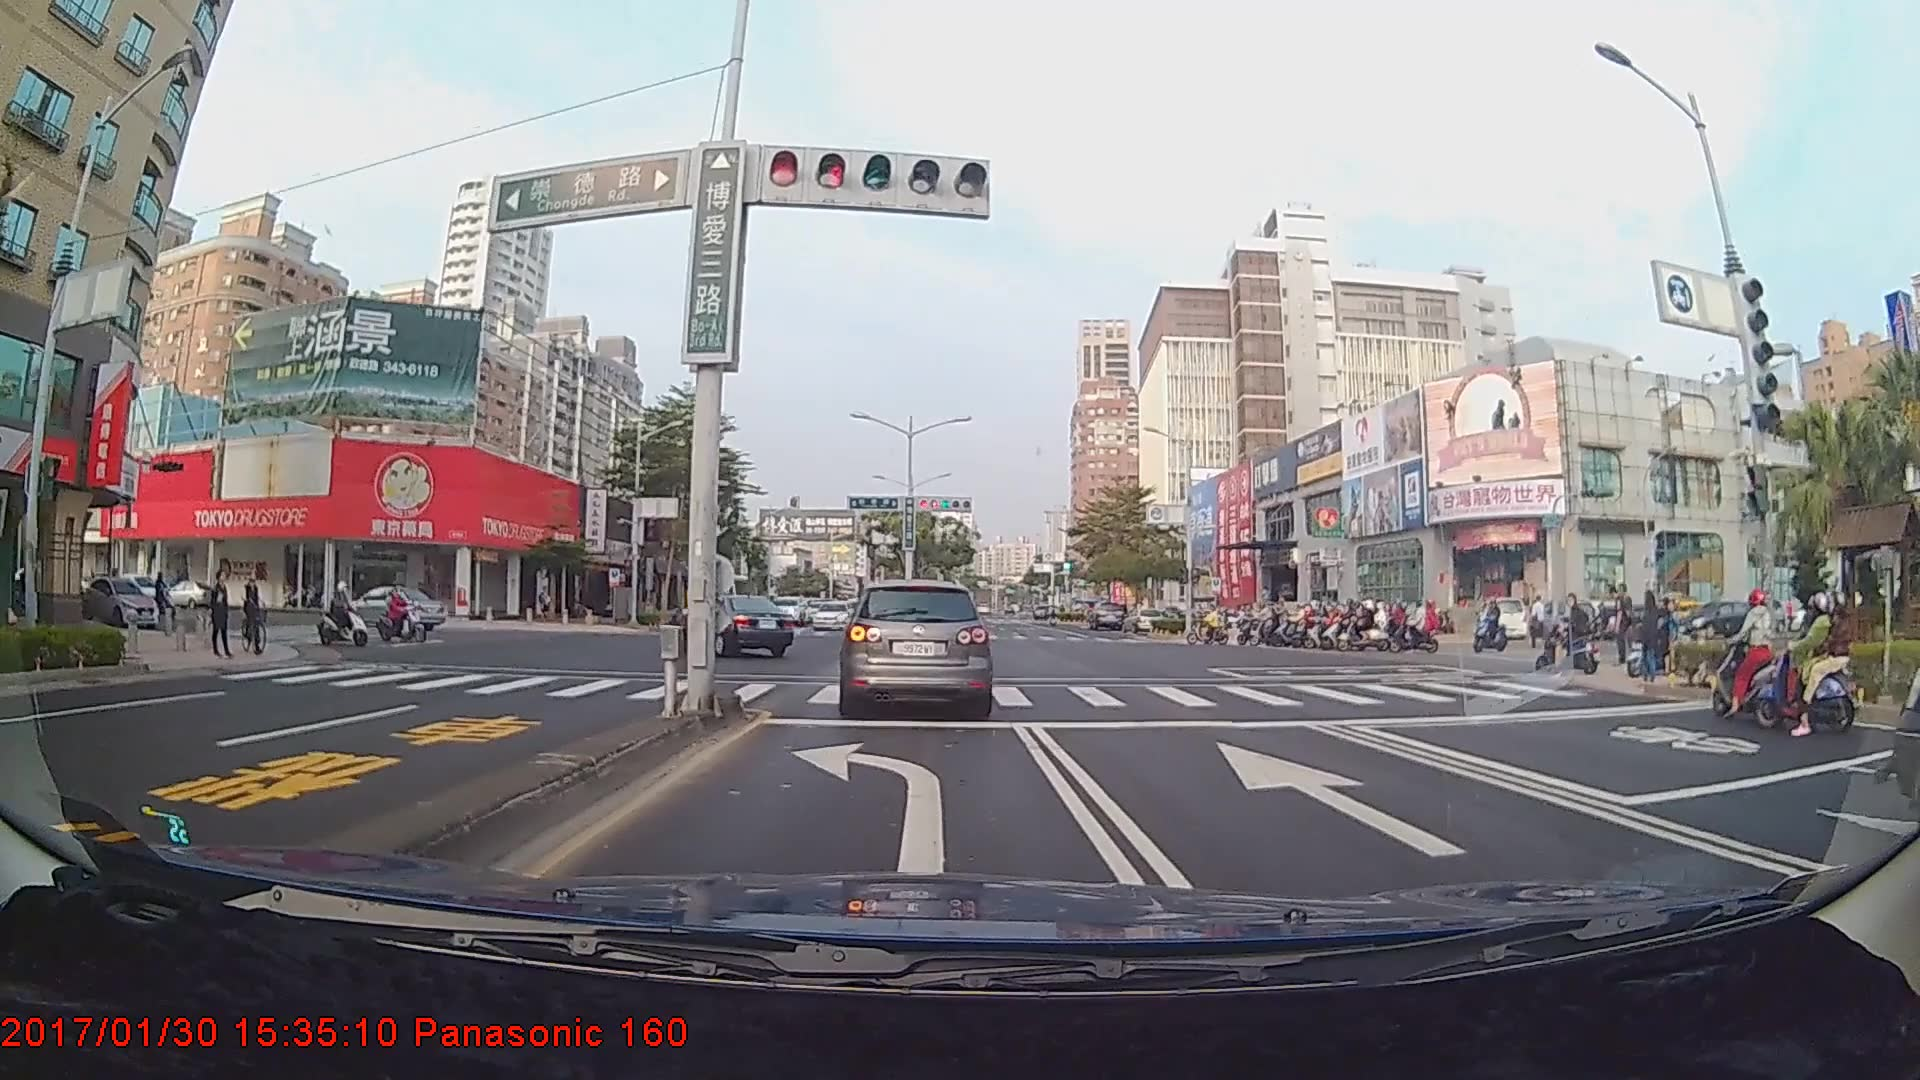pedestrian: (1634, 578, 1667, 691), (1617, 581, 1638, 667), (211, 572, 231, 661)
rider: (1754, 593, 1858, 742), (1715, 585, 1807, 726), (1533, 598, 1606, 673), (1624, 587, 1678, 682), (311, 577, 371, 650), (364, 578, 426, 639), (237, 566, 275, 652), (1393, 593, 1437, 654), (1463, 596, 1510, 652), (1342, 598, 1388, 651), (1229, 595, 1276, 641), (1184, 607, 1233, 647), (1314, 597, 1353, 643), (1295, 603, 1337, 644), (1305, 600, 1342, 644)
vehicle: (835, 568, 994, 706), (675, 593, 795, 658), (338, 583, 439, 630), (1090, 598, 1124, 629)
